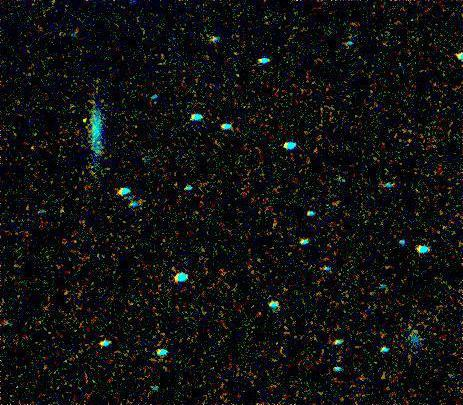star: (73, 105, 103, 135)
